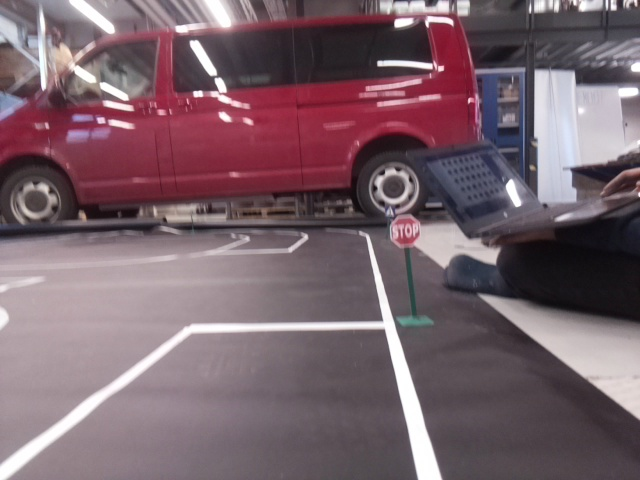Stop: (389, 217, 421, 246)
